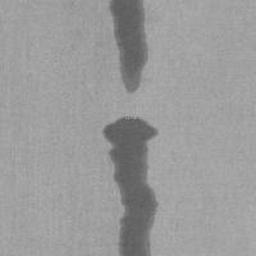Water spot: (101, 114, 161, 256), (108, 0, 150, 96)
